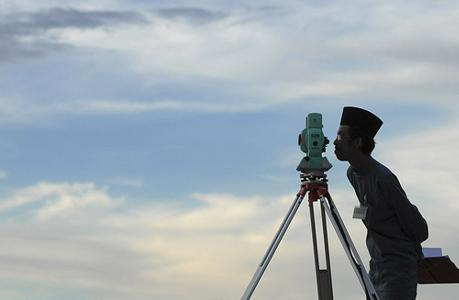person: (334, 106, 429, 300)
